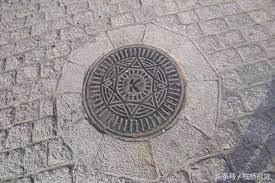wellcover: (75, 40, 198, 143)
